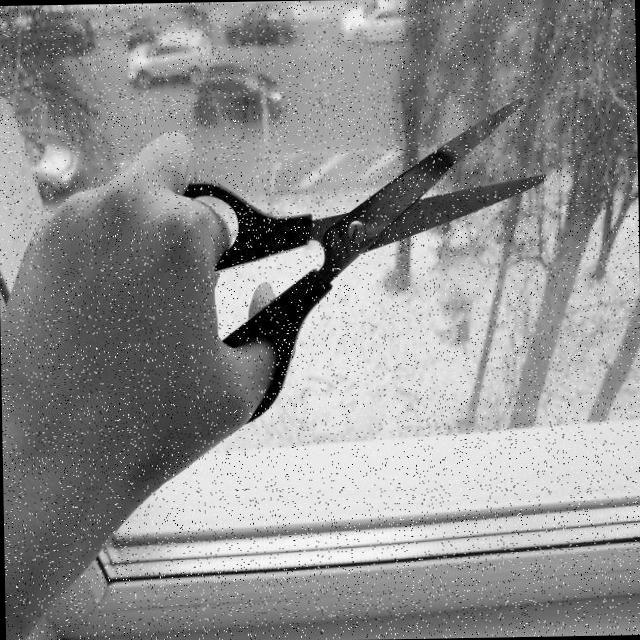scissors: (162, 84, 557, 433)
